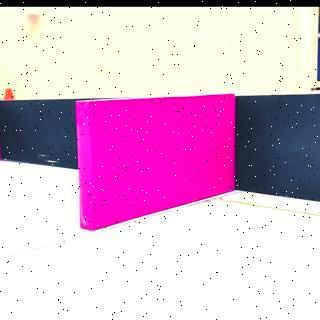xparking: (78, 100, 234, 206)
